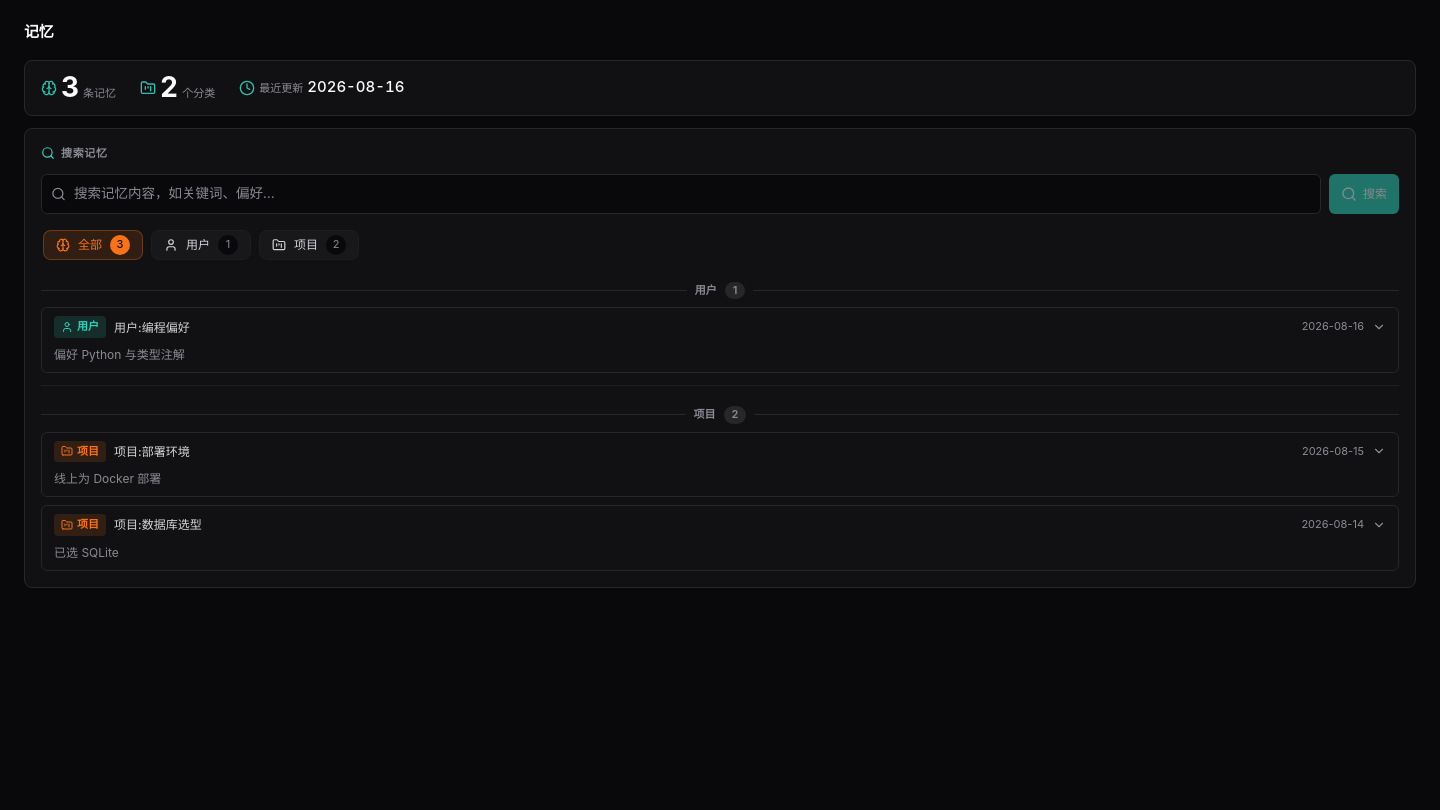
Test: MemoryViewer › 搜索返回命中文档,显示片段高亮与命中层级徽标
Type "环球影城" into the field with test id "search-input" at (681, 194), box [41, 174, 1321, 214]
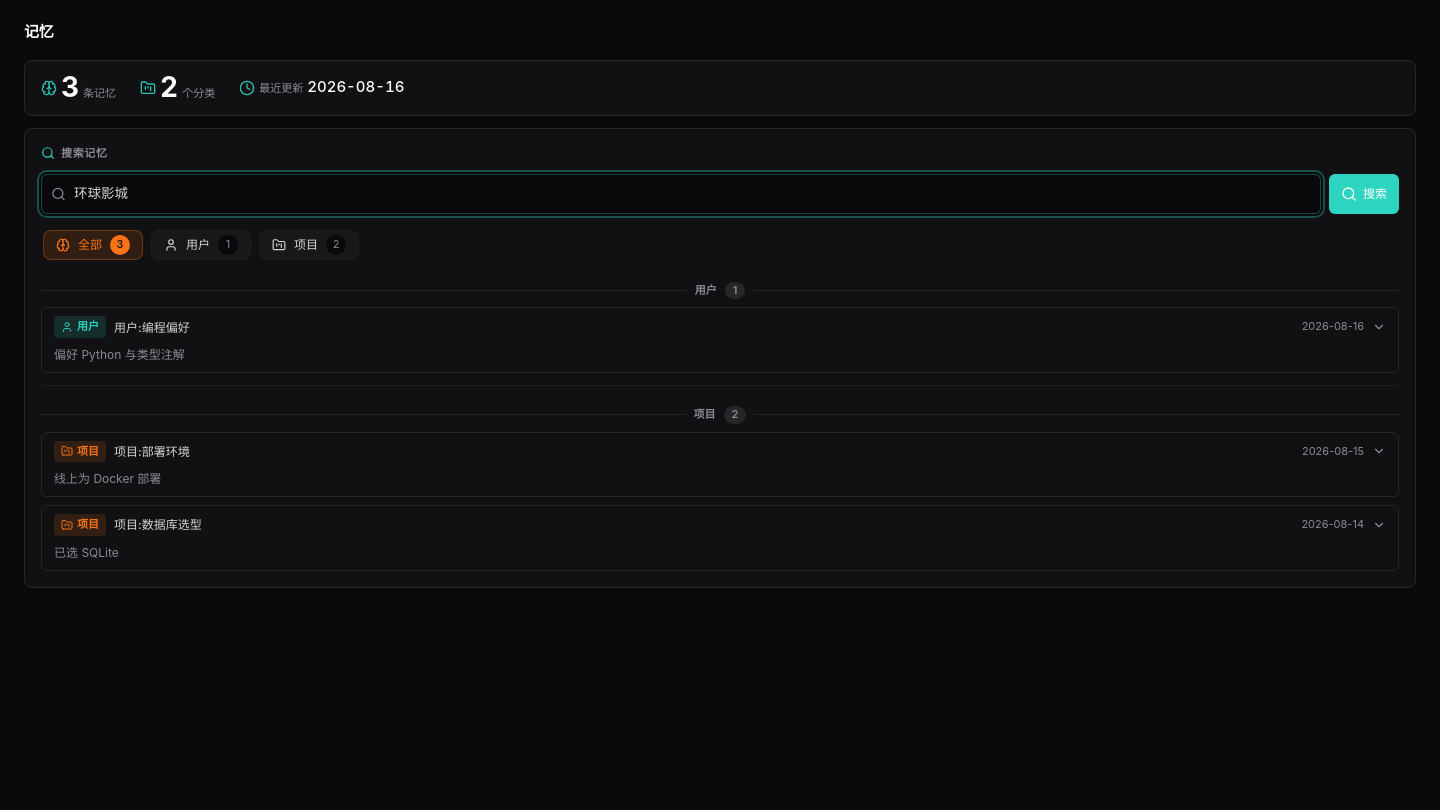
Click the button with test id "search-button" at (1364, 194), box [1329, 174, 1399, 214]
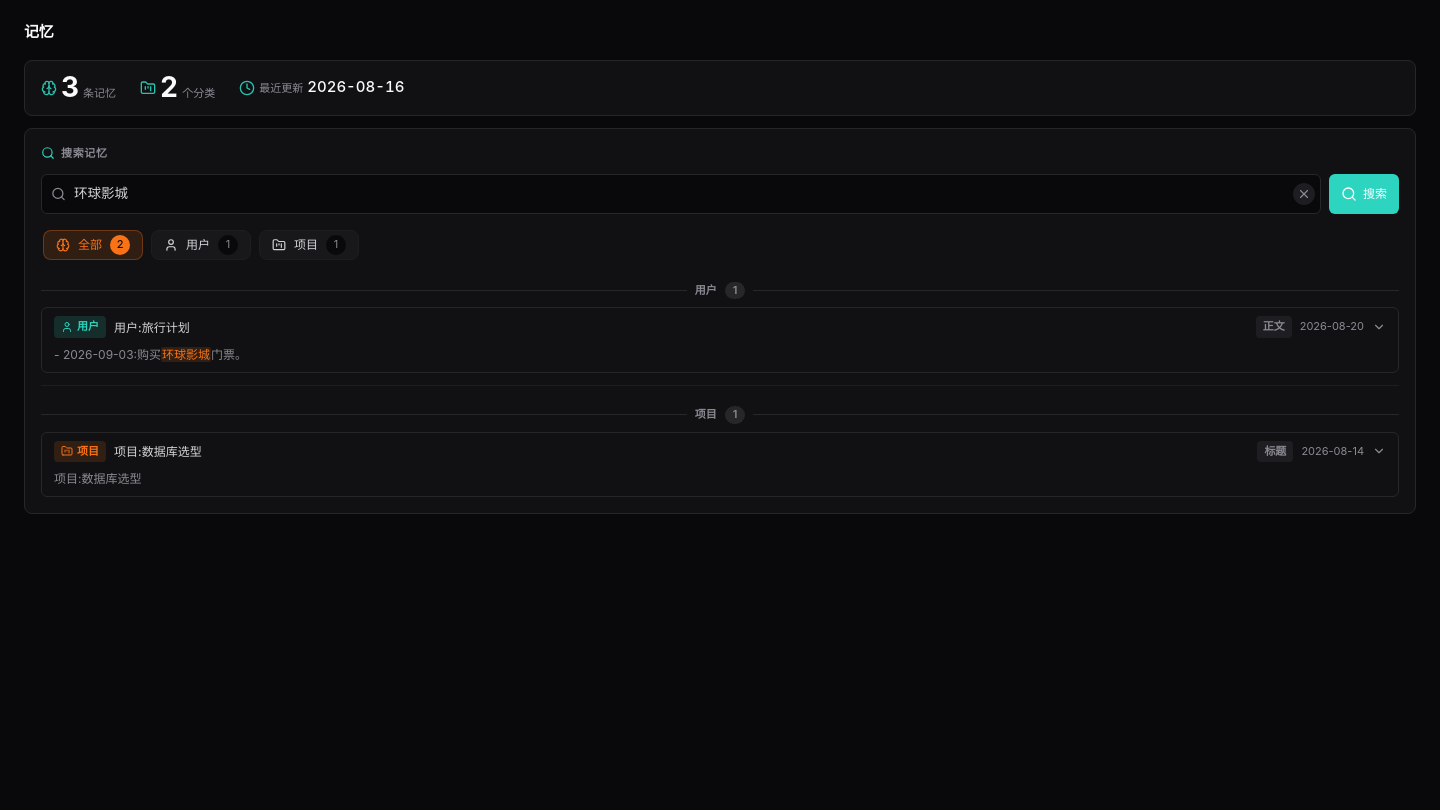
Now the element with test id "memory-entry" that starts with "用户:旅行计划" is shown, box [41, 307, 1399, 373]
Now the text "环球影城" is shown, box [161, 347, 211, 362]
Now the text "正文" is shown, box [1256, 316, 1292, 338]
